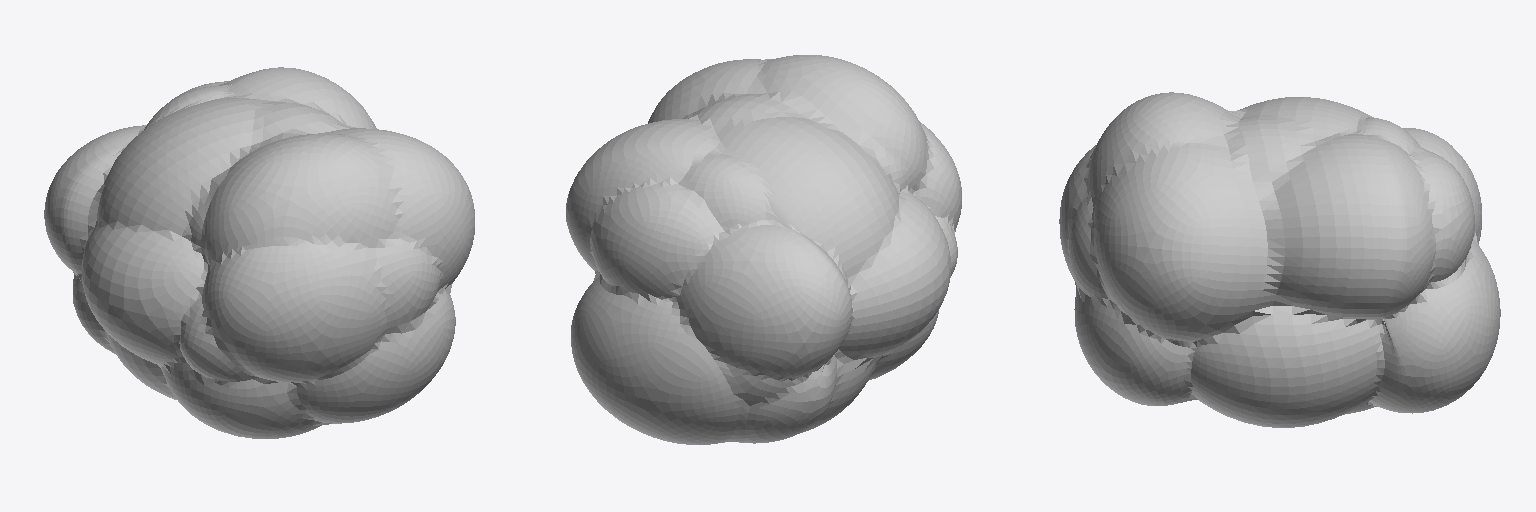
Rendered from kumo.obj.
3 views of the same model, side by side, from view 1: azimuth 30°, elevation 25°; view 2: azimuth 150°, elevation 25°; view 3: azimuth 270°, elevation 25° (orthographic).
Parts seen in each view (by area): view 1: ICO球; view 2: ICO球; view 3: ICO球.
Boxes of the visible parts, <box> form: ICO球: <box>44,67,474,438</box>; ICO球: <box>566,55,961,444</box>; ICO球: <box>1059,92,1500,427</box>.
Size of the model in its own units: 2.38 by 2.12 by 2.8.